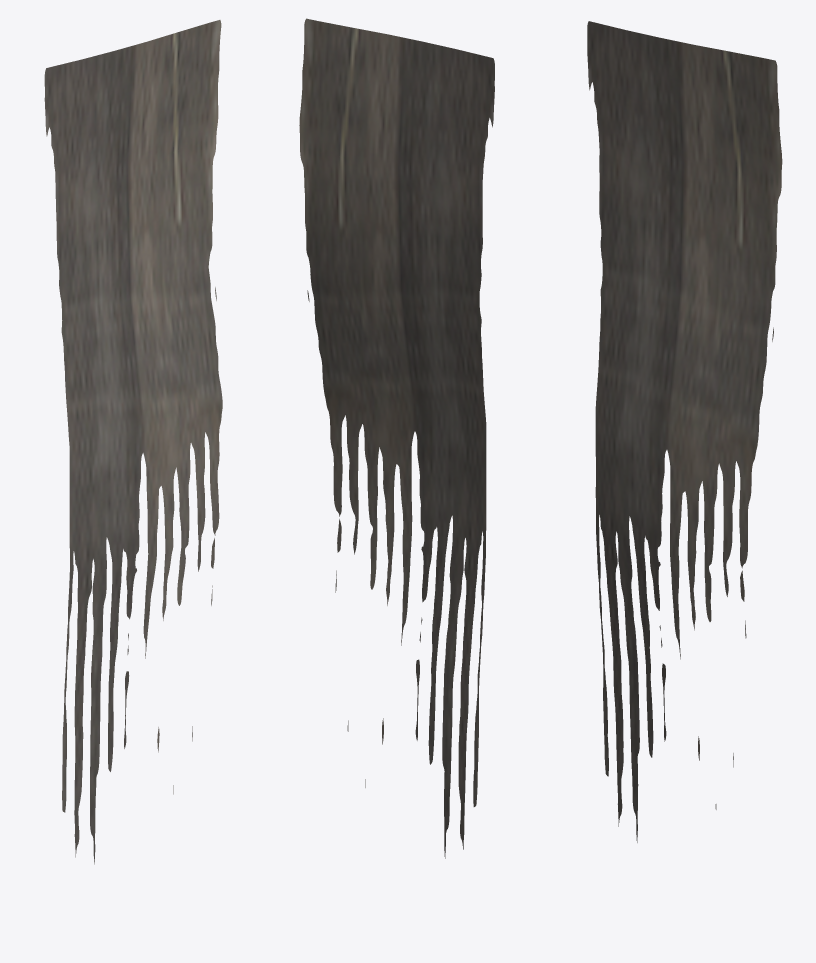
File: Cloth1.fbx
3 renders of one model, left to right at view 1: azimuth 30°, elevation 25°; view 2: azimuth 150°, elevation 25°; view 3: azimuth 330°, elevation 25°, orthographic.
Visible parts, largest first — view 1: Cloth.008; view 2: Cloth.008; view 3: Cloth.008.
Part boxes in pixels (x1,y1,x2,y2): Cloth.008: (44,20,222,864); Cloth.008: (299,18,494,858); Cloth.008: (587,21,782,842).
Bounding box in the file's own units: 36.44 × 133 × 5.98.
